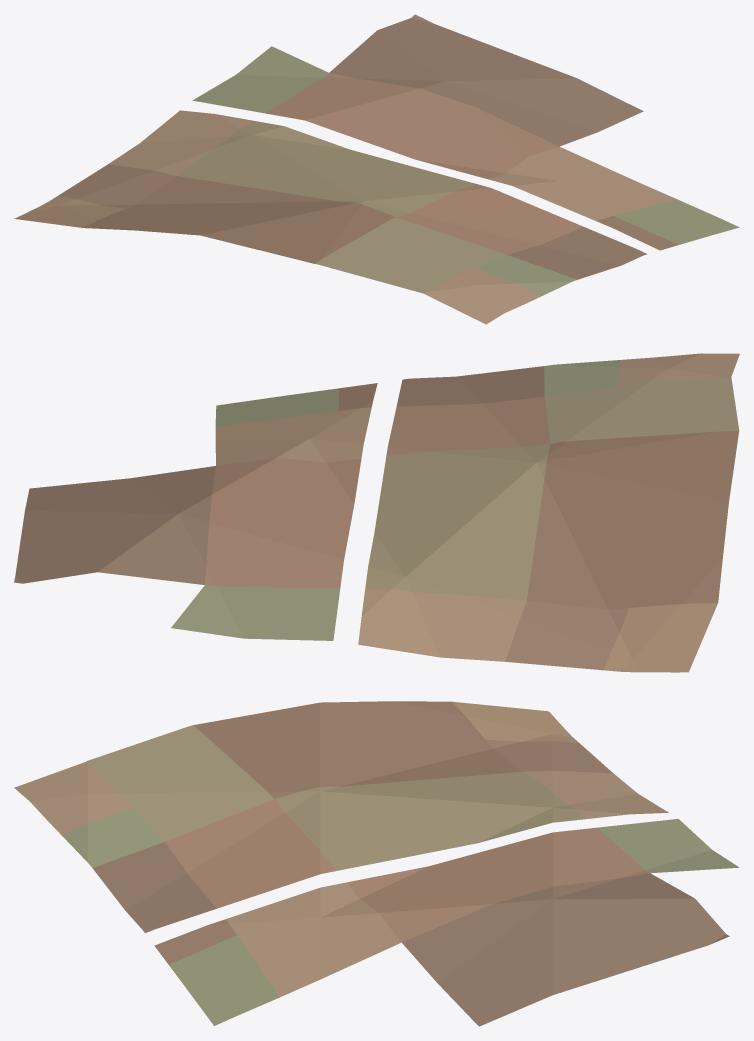
The model's file is farm_-3_-6_soil.glb.
3 views of the same model, one above another, from view 1: azimuth 30°, elevation 25°; view 2: azimuth 150°, elevation 25°; view 3: azimuth 270°, elevation 25° (orthographic). The views are drawn at different scales.
Visible parts, largest first — view 1: geometry_0; view 2: geometry_0; view 3: geometry_0.
Part boxes in pixels (<box>): geometry_0: <box>14,14,739,324</box>; geometry_0: <box>14,353,739,672</box>; geometry_0: <box>14,701,739,1026</box>.
Size of the model in its own units: 246 by 30.58 by 250.
